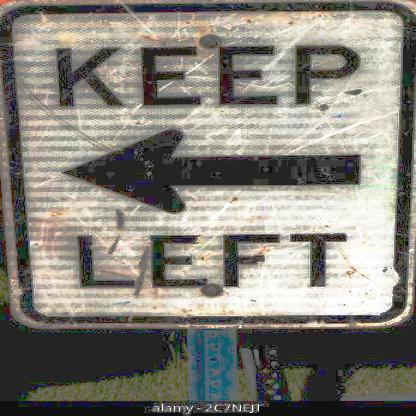Keep left: (15, 4, 399, 326)
